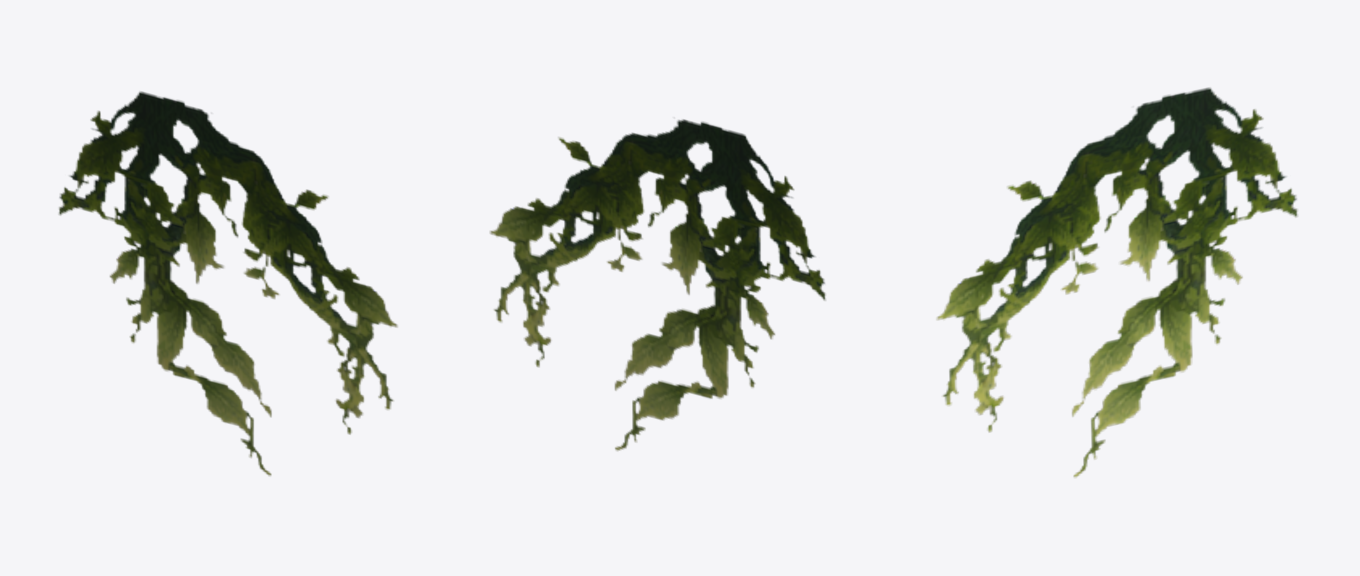
The model's file is algae_h_2.gltf.
The picture shows the model from 3 angles, left to right: view 1: azimuth 30°, elevation 25°; view 2: azimuth 210°, elevation 25°; view 3: azimuth 270°, elevation 25°; orthographic projection. The views are drawn at different scales.
Visible parts, largest first — view 1: algae_h_2; view 2: algae_h_2; view 3: algae_h_2.
Boxes of the visible parts, <box> form: algae_h_2: <box>59,91,397,475</box>; algae_h_2: <box>490,119,825,450</box>; algae_h_2: <box>936,87,1297,477</box>.
Bounding box in the file's own units: 2.22 × 4.67 × 4.22.
Materials: 1 (1 with a texture image).
